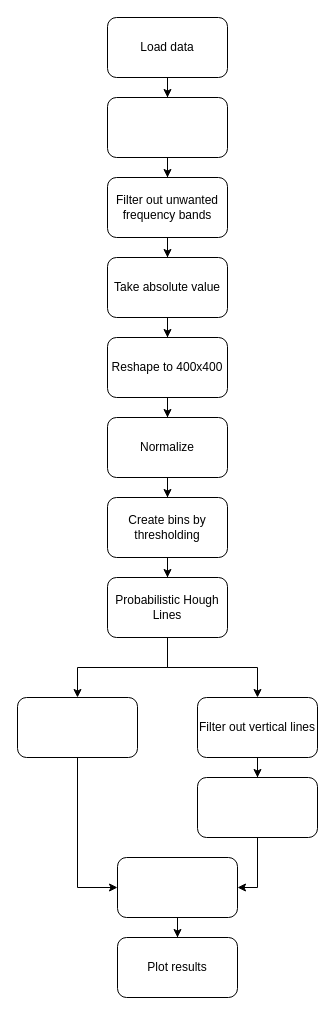
Some shapes in this 335 by 1015 pixel diagram are drawn without their labels. Each missing label, with the centre of its shape:
"Calculate speed" belongs at (x=77, y=727).
"Center values by subtracting mean" belongs at (x=167, y=127).
"Filter out lines with unrealistic speed" belongs at (x=177, y=887).
"Merge similar lines" belongs at (x=257, y=807).
